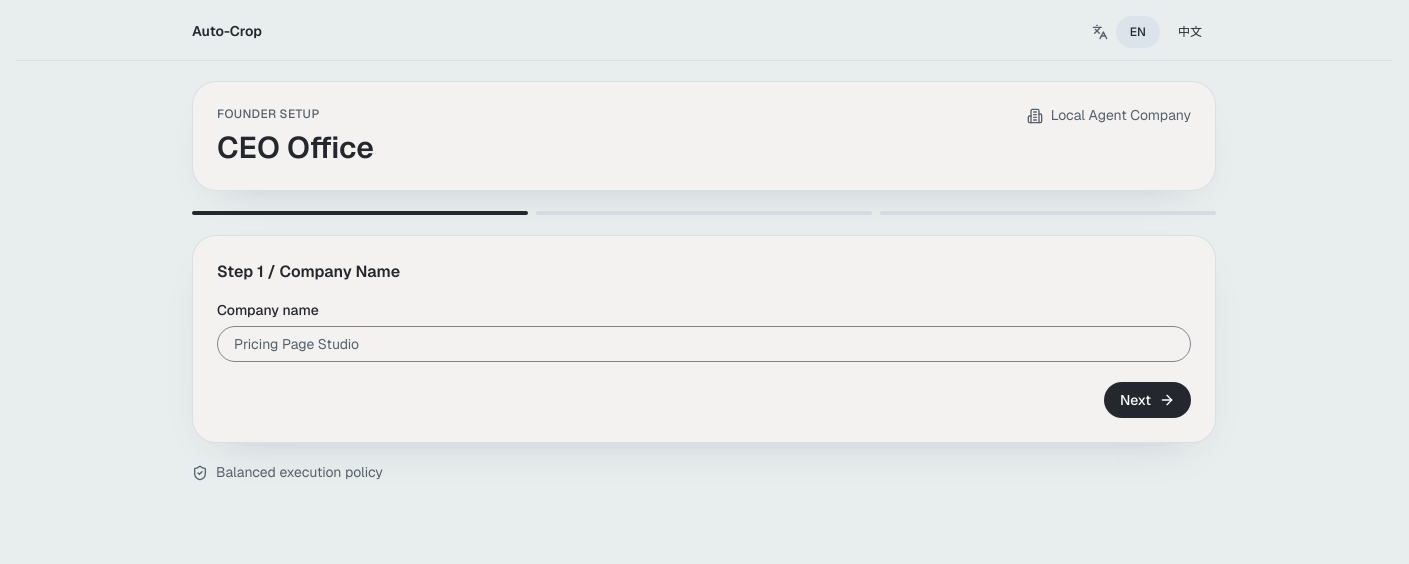
Dashboard App › blocks Next on Step 1 until a company name is entered
Click the button "Next" at (1147, 400), box [1104,382,1191,418]
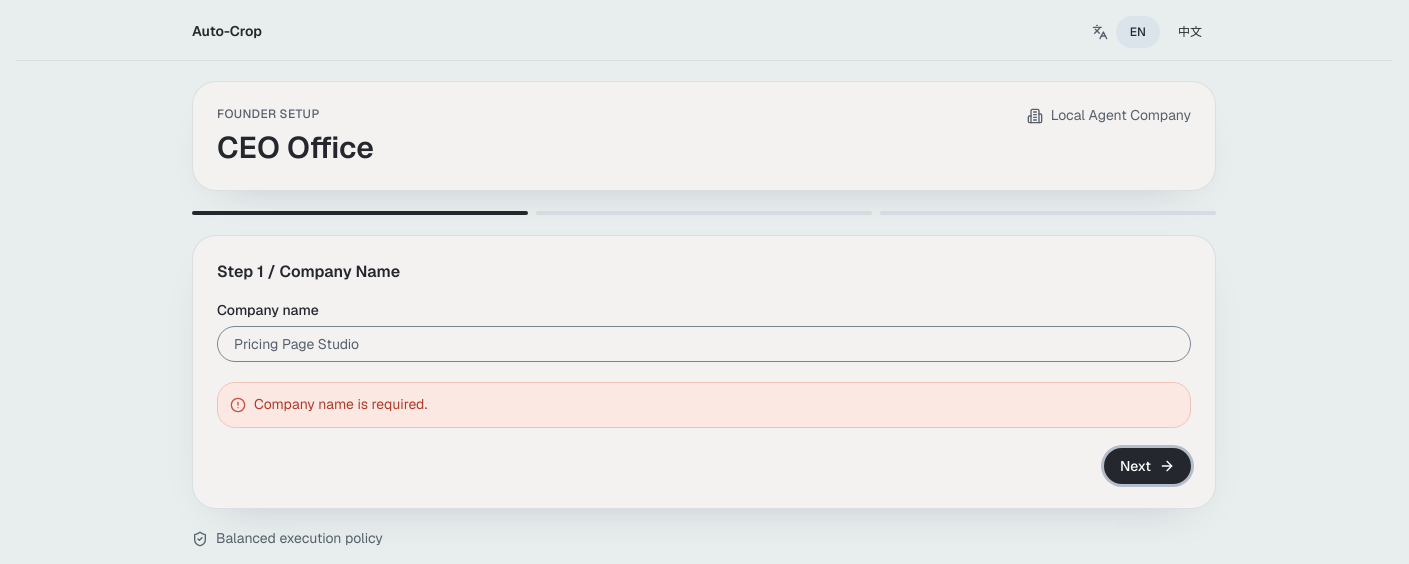
Check: the heading "Step 1 / Company Name" is shown, box [217,261,400,282]
Check: the message reads "Company name is required.", box [254,396,427,414]
